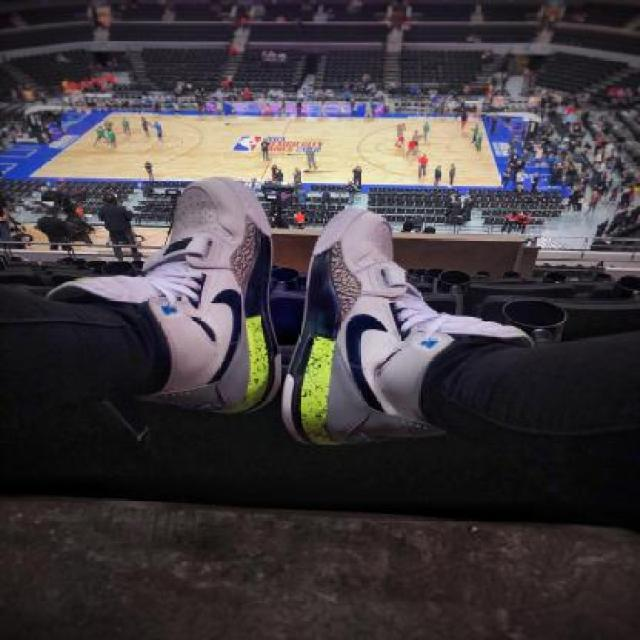shoes: (280, 205, 534, 448), (44, 175, 285, 416)
